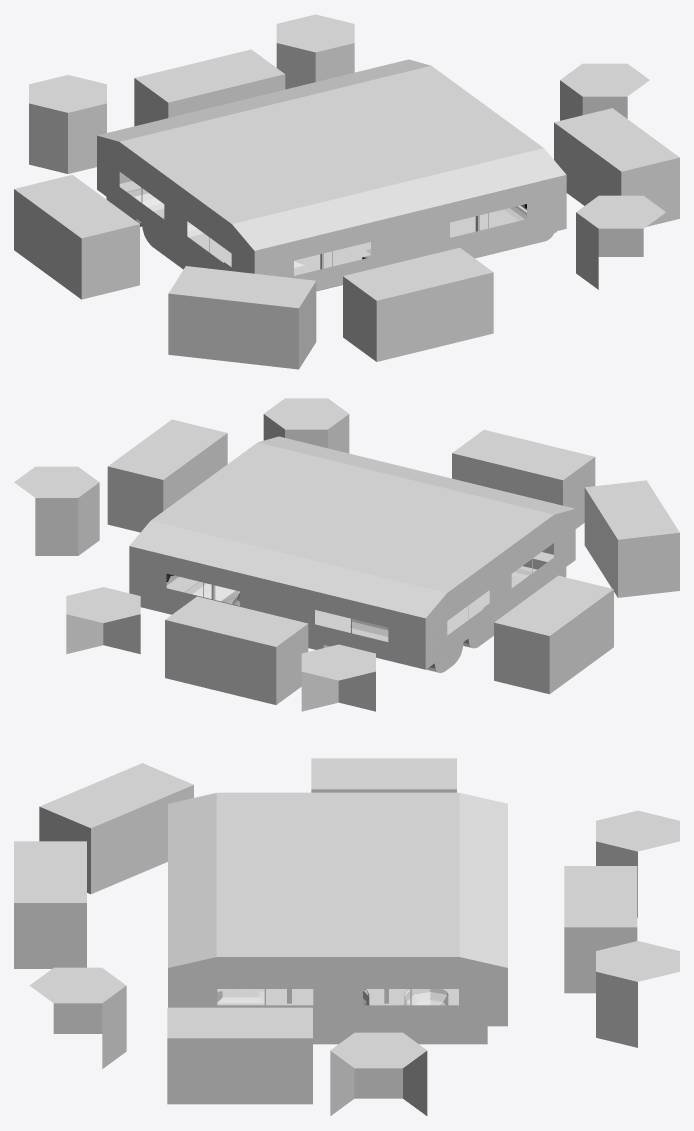
The model's file is skvans.glb.
The picture shows the model from 3 angles, top to bottom: view 1: azimuth 30°, elevation 25°; view 2: azimuth 150°, elevation 25°; view 3: azimuth 270°, elevation 25°; orthographic projection. The views are drawn at different scales.
Parts seen in each view (by area): view 1: SKVANS_Col_Floor, SKVANS_Col_Wall, SKVANS_Col_Ride, SKVANS_Col_Pipe; view 2: SKVANS_Col_Floor, SKVANS_Col_Wall, SKVANS_Col_Ride, SKVANS_Col_Pipe; view 3: SKVANS_Col_Floor, SKVANS_Col_Wall, SKVANS_Col_Ride, SKVANS_Col_Pipe.
Part boxes in pixels (x1,y1,x2,y2): SKVANS_Col_Floor: (14, 14, 679, 308); SKVANS_Col_Wall: (14, 43, 679, 369); SKVANS_Col_Ride: (97, 135, 566, 290); SKVANS_Col_Pipe: (119, 181, 526, 291); SKVANS_Col_Floor: (14, 398, 679, 680); SKVANS_Col_Wall: (35, 414, 679, 711); SKVANS_Col_Ride: (129, 509, 575, 672); SKVANS_Col_Pipe: (166, 566, 536, 672); SKVANS_Col_Floor: (14, 758, 679, 1068); SKVANS_Col_Wall: (14, 785, 637, 1115); SKVANS_Col_Ride: (168, 957, 507, 1044); SKVANS_Col_Pipe: (289, 989, 458, 1005).
Size of the model in its own units: 160 by 25.65 by 146.
13 materials, 12 textured.
